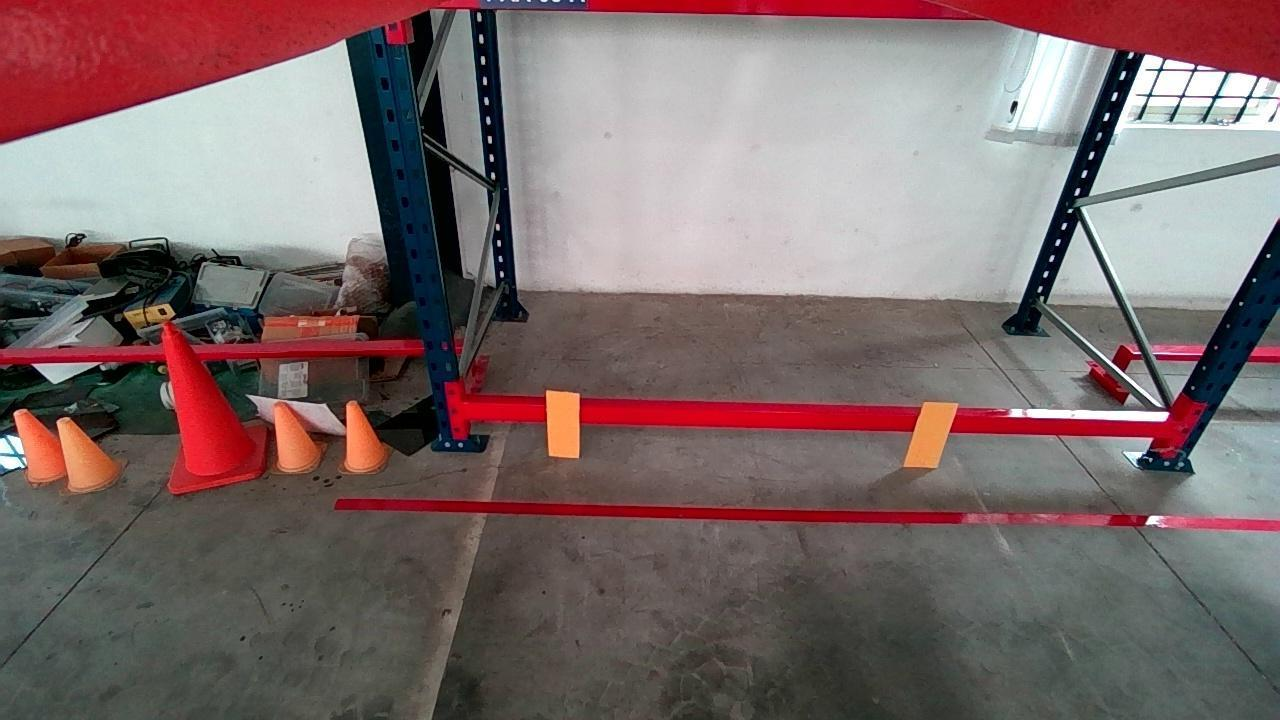h_rack: (464, 396, 1184, 439)
orange_strip: (903, 401, 958, 468), (546, 389, 582, 458)
red_line: (336, 497, 1280, 530)
